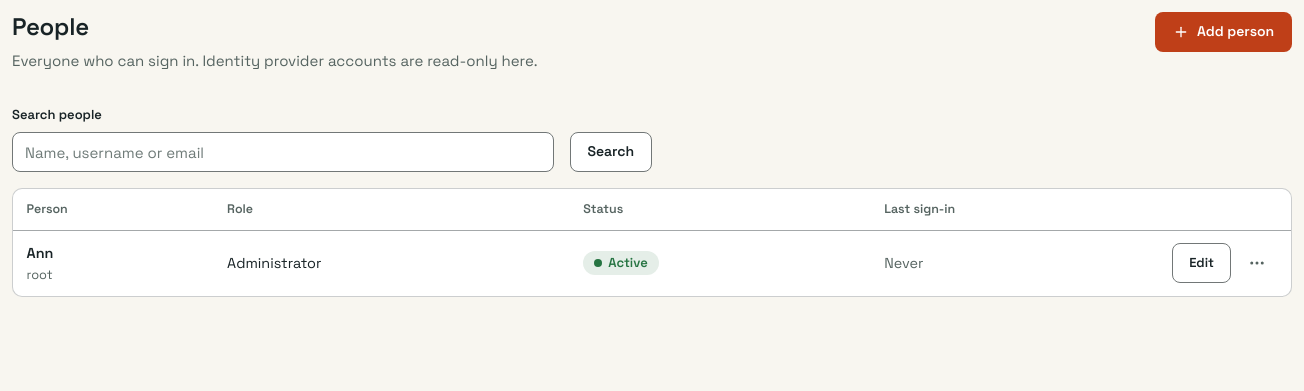
Scenario: People › offers no demote or disable on your own row
Expected: the button with aria-label "Edit root" is shown, left=1172, top=244, right=1231, bottom=284
Click the button named "More actions for root" at [1257, 264], box left=1237, top=244, right=1277, bottom=284
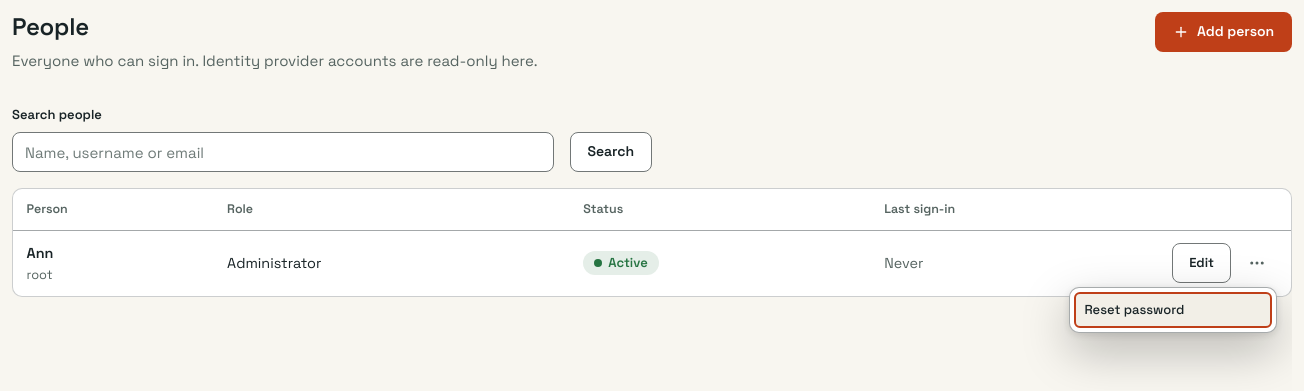
Expected: the menu item with aria-label "Reset password for root" is shown, left=1074, top=292, right=1272, bottom=328
